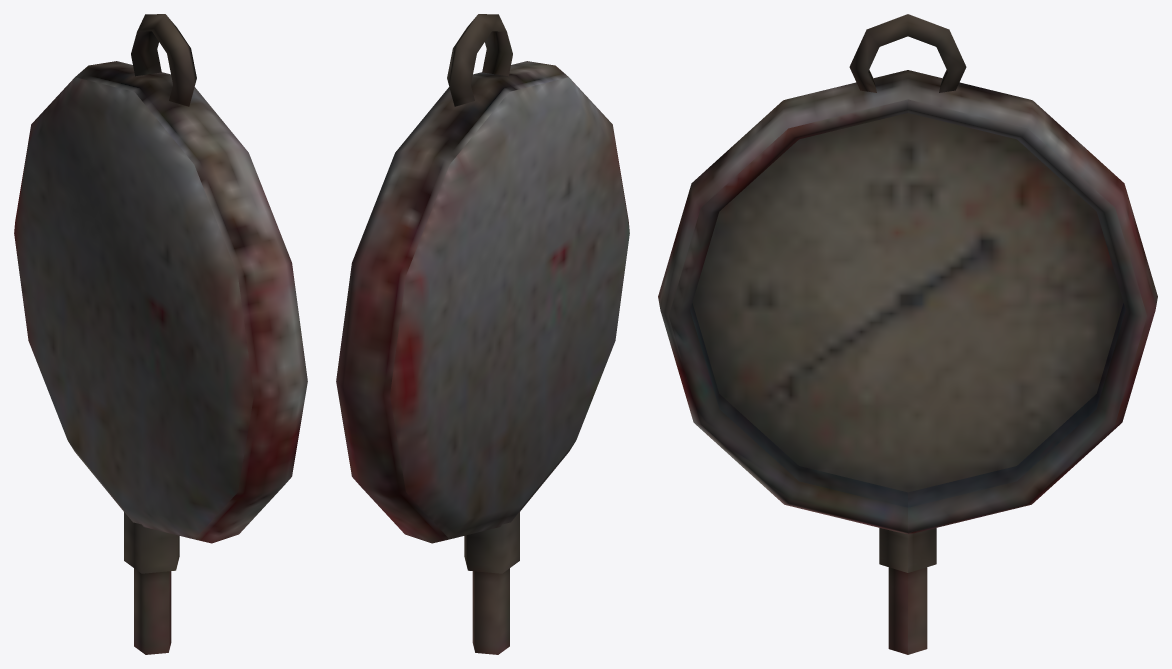
Rendered from WeighingMachine.FBX.
3 views of the same model, side by side, from view 1: azimuth 30°, elevation 25°; view 2: azimuth 150°, elevation 25°; view 3: azimuth 270°, elevation 25° (orthographic).
Parts seen in each view (by area): view 1: WeighingMachine; view 2: WeighingMachine; view 3: WeighingMachine.
Boxes of the visible parts, left/top/right/bottom form: WeighingMachine: left=14, top=14, right=307, bottom=654; WeighingMachine: left=336, top=14, right=629, bottom=654; WeighingMachine: left=658, top=14, right=1157, bottom=654.
Bounding box in the file's own units: 5.12 × 45.03 × 31.97.
2 materials, 2 textured.
